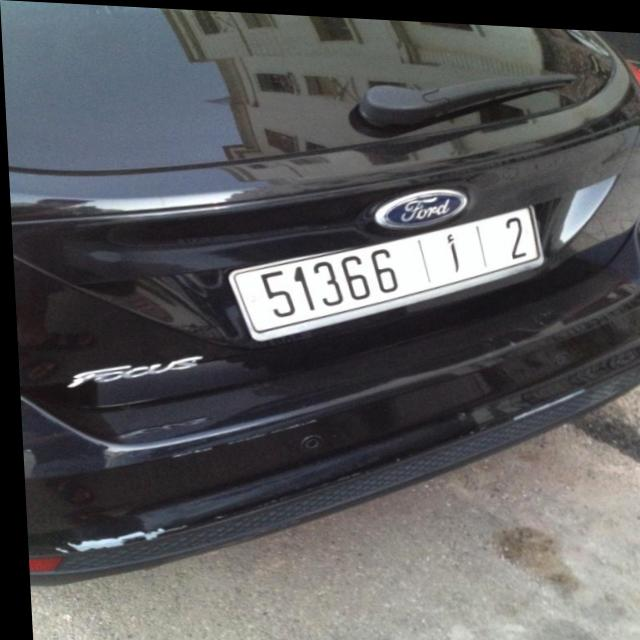License-Plate: (226, 202, 541, 339)
